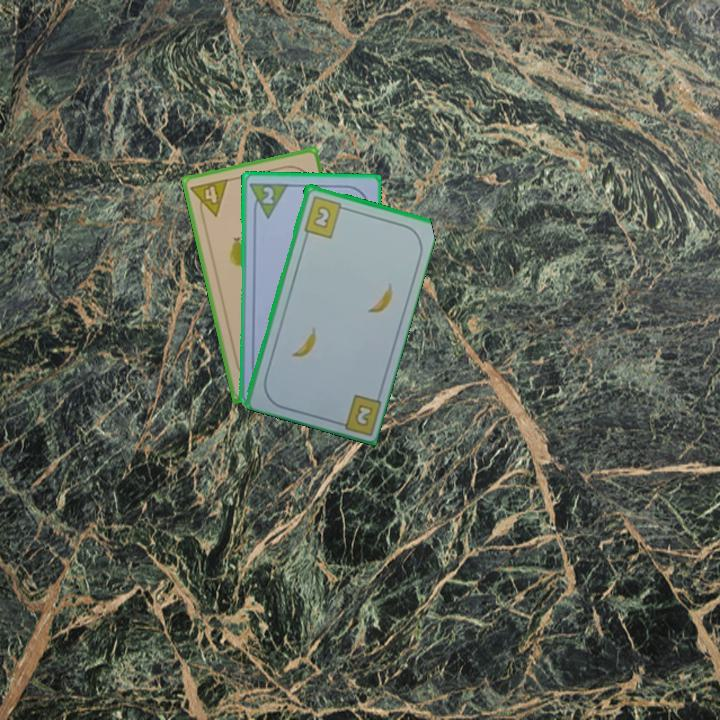2b: (331, 390, 383, 436), (300, 192, 349, 240)
2p: (246, 179, 290, 220)
4p: (187, 175, 231, 222)
